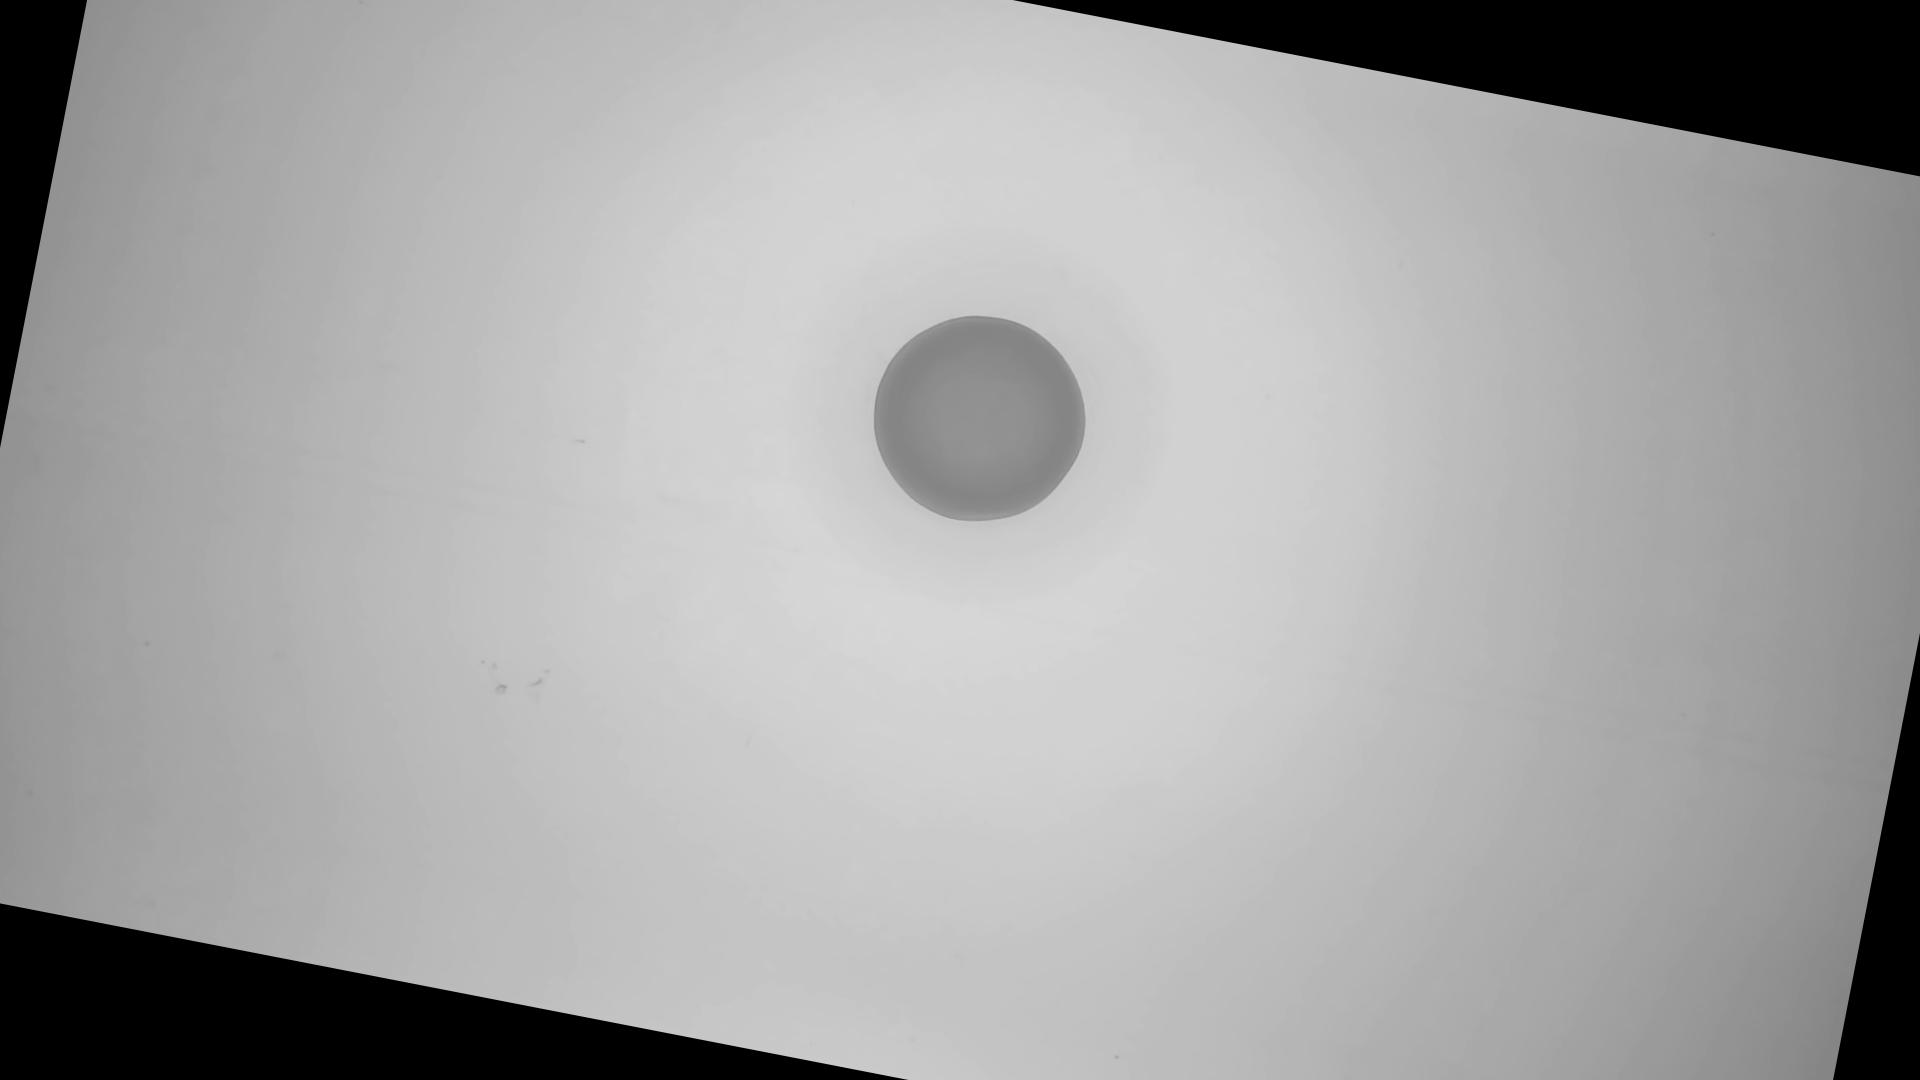normal: (855, 294, 1108, 545)
